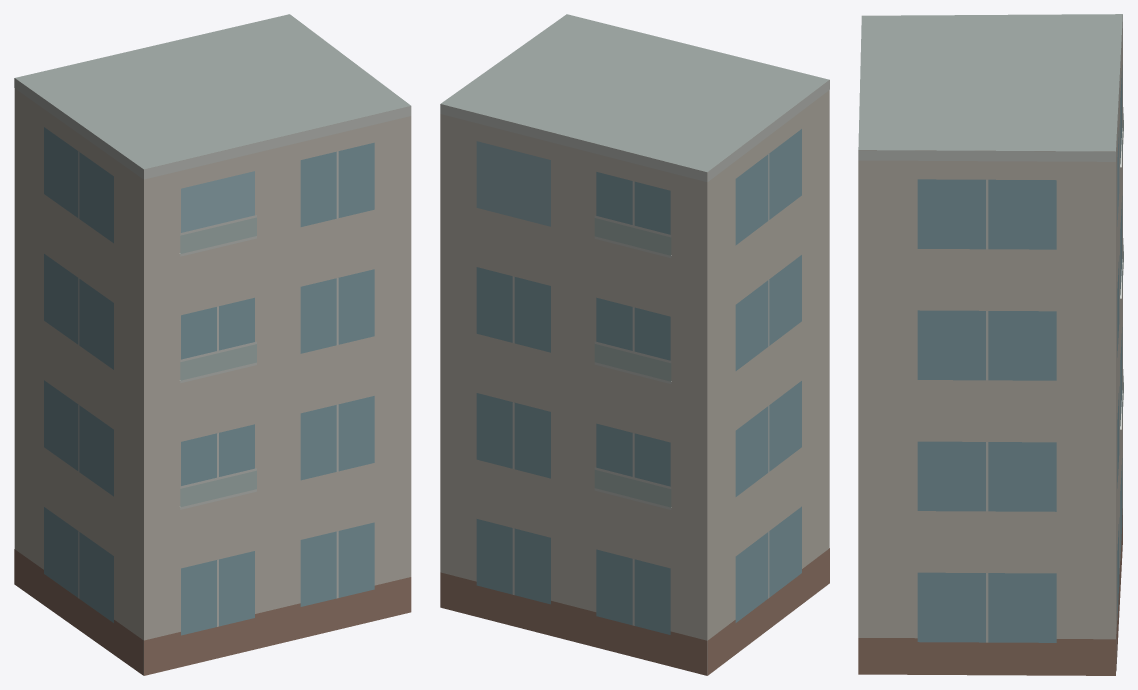
File: survey-upis-32793168.glb
3 views of the same model, side by side, from view 1: azimuth 30°, elevation 25°; view 2: azimuth 150°, elevation 25°; view 3: azimuth 270°, elevation 25° (orthographic). The views are drawn at different scales.
Parts seen in each view (by area): view 1: survey-upis-32793168.tmp; view 2: survey-upis-32793168.tmp; view 3: survey-upis-32793168.tmp.
Part boxes in pixels (x1,y1,x2,y2): survey-upis-32793168.tmp: (14, 14, 411, 675); survey-upis-32793168.tmp: (440, 14, 829, 675); survey-upis-32793168.tmp: (858, 14, 1123, 675).
Bounding box in the file's own units: 6.87 × 12.2 × 5.6.
